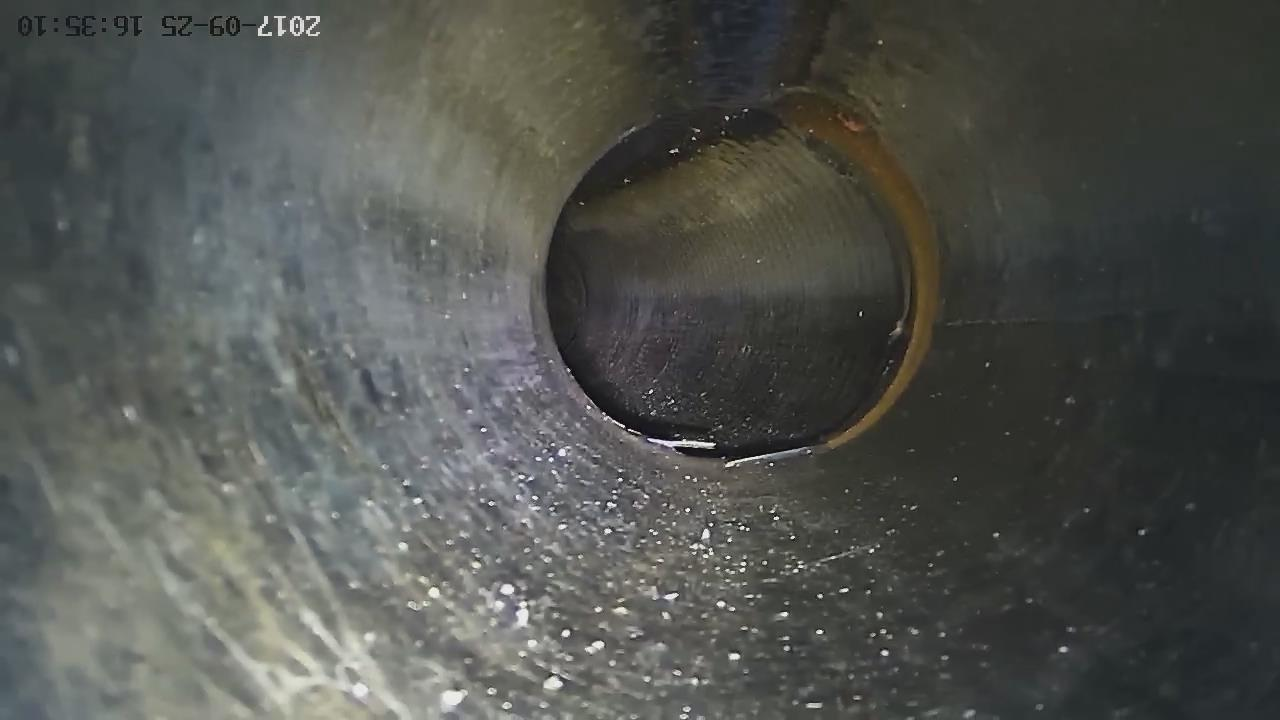CKTJ: (718, 92, 942, 468)
JKCL: (637, 424, 820, 475)
